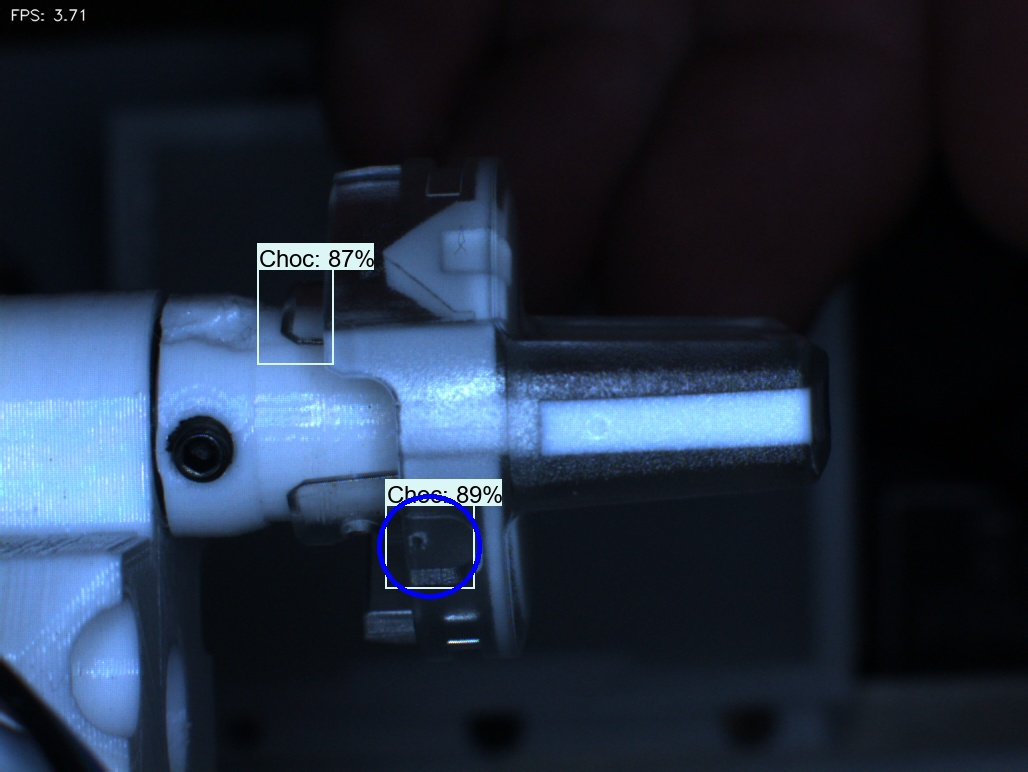DentOk: (356, 211, 432, 309)
